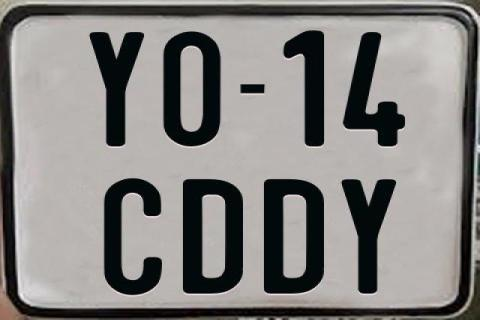0: (164, 29, 226, 145), (343, 31, 405, 147), (280, 31, 324, 151)
C: (102, 179, 166, 299)
D: (261, 180, 324, 296), (180, 179, 240, 296)
Y: (340, 177, 400, 292), (89, 30, 145, 148)
